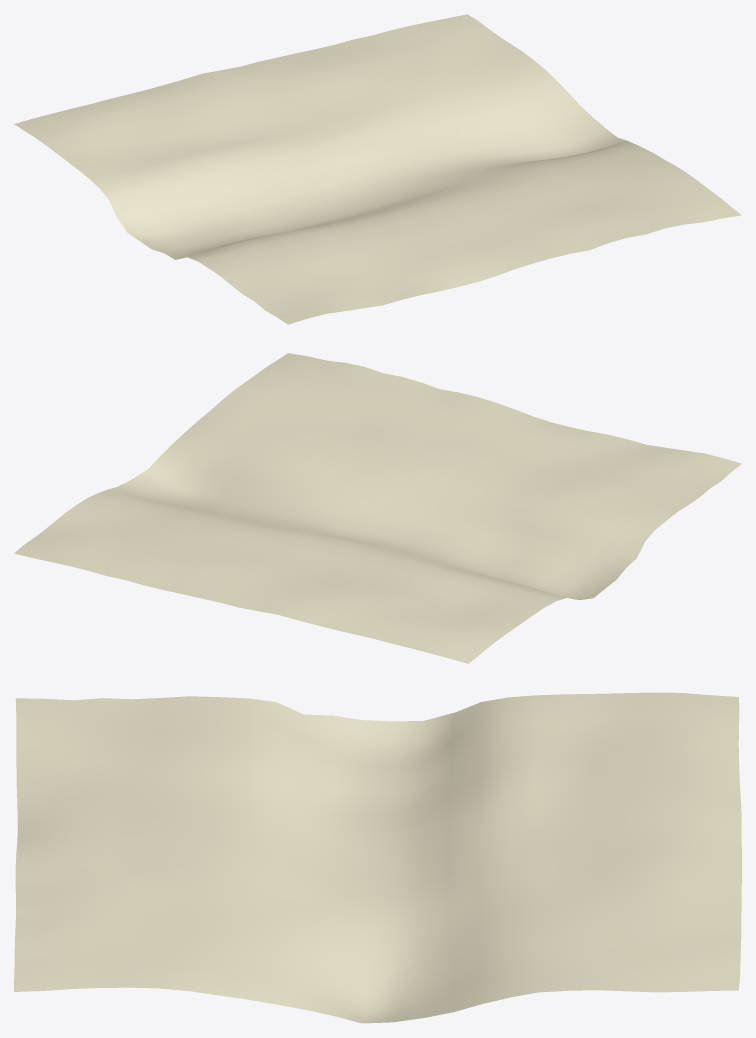
The model's file is psx_terrain.glb.
3 views of the same model, one above another, from view 1: azimuth 30°, elevation 25°; view 2: azimuth 150°, elevation 25°; view 3: azimuth 270°, elevation 25° (orthographic). The views are drawn at different scales.
Parts seen in each view (by area): view 1: Terrain; view 2: Terrain; view 3: Terrain.
Boxes of the visible parts, <box> form: Terrain: <box>14,14,741,324</box>; Terrain: <box>14,353,741,663</box>; Terrain: <box>14,692,741,1023</box>.
Size of the model in its own units: 195 by 15.01 by 199.
